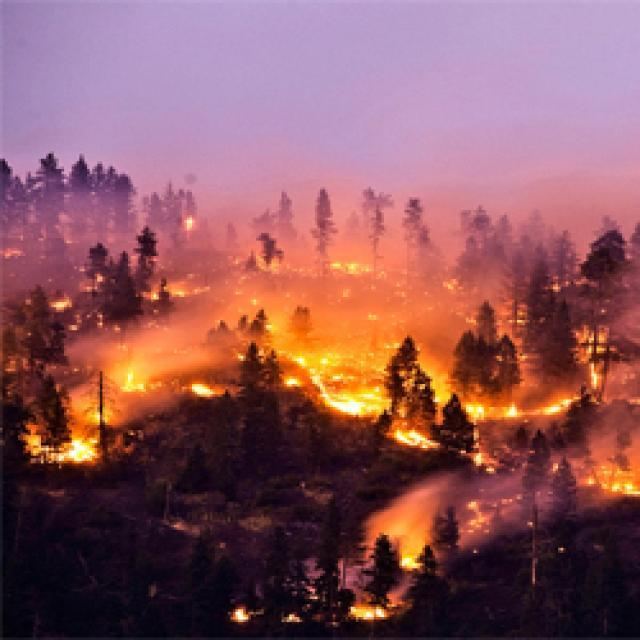Fire: (270, 316, 502, 462), (300, 477, 482, 640), (81, 300, 286, 412), (0, 351, 169, 482), (0, 176, 134, 306), (452, 366, 616, 446), (147, 177, 222, 316), (498, 298, 640, 368), (523, 440, 640, 520), (274, 237, 441, 290)
Smoke: (0, 0, 640, 303)
